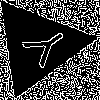Y: (13, 21, 73, 75)
